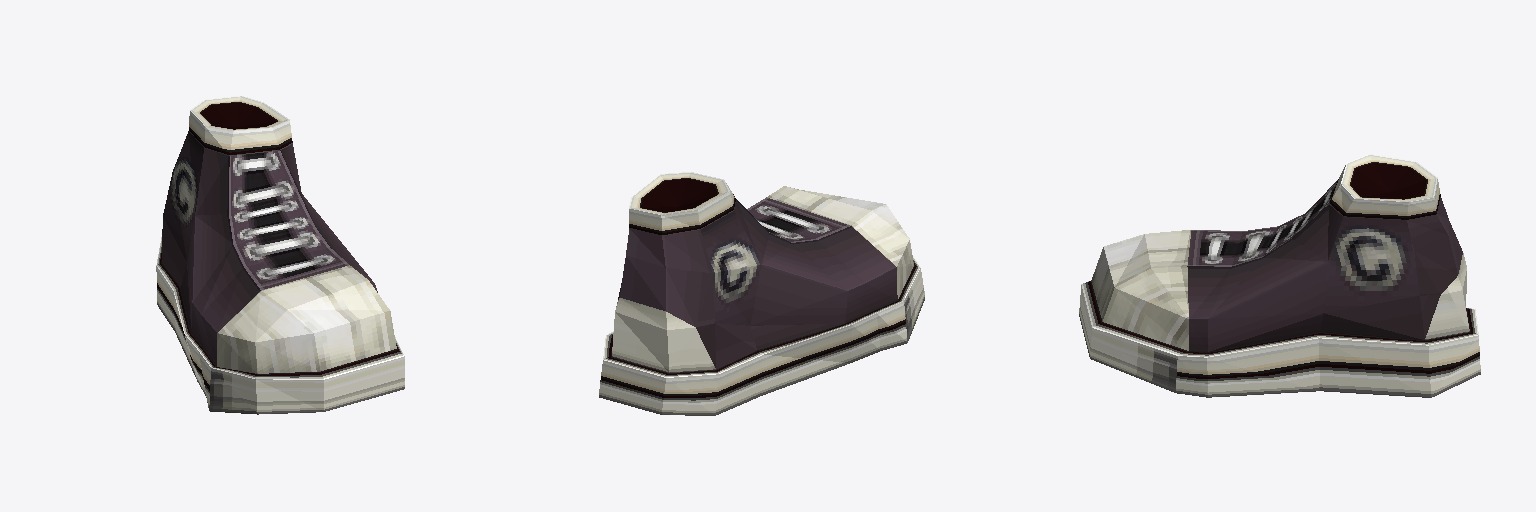
3 views of the same model, side by side, from view 1: azimuth 30°, elevation 25°; view 2: azimuth 150°, elevation 25°; view 3: azimuth 270°, elevation 25° (orthographic).
Parts seen in each view (by area): view 1: Shoe; view 2: Shoe; view 3: Shoe.
Part boxes in pixels (x1,y1,x2,y2): Shoe: (156,96,404,414); Shoe: (599,172,924,415); Shoe: (1079,154,1480,397).
Bounding box in the file's own units: 9.9 × 10.04 × 18.49.
Materials: 1 (1 with a texture image).